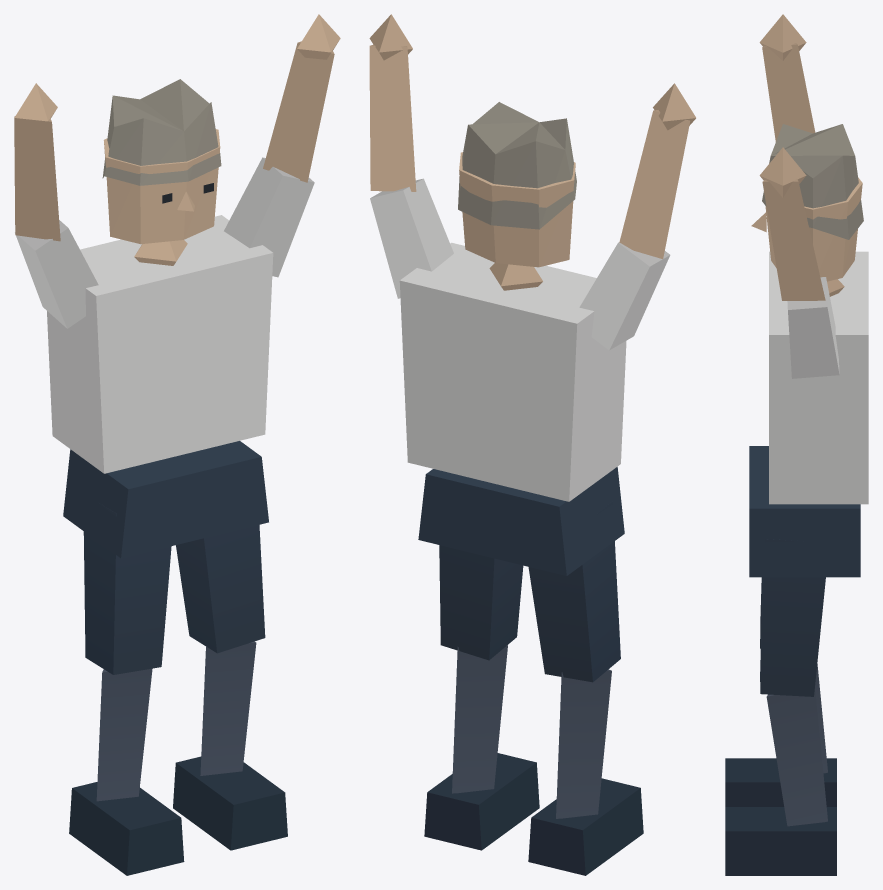
The model's file is fan-08.glb.
3 views of the same model, side by side, from view 1: azimuth 30°, elevation 25°; view 2: azimuth 150°, elevation 25°; view 3: azimuth 270°, elevation 25° (orthographic). The views are drawn at different scales.
Visible parts, largest first — view 1: fan-08; view 2: fan-08; view 3: fan-08.
Boxes of the visible parts, box(x1,y1,x2,y2) form: fan-08: box(14, 14, 340, 875); fan-08: box(369, 14, 695, 875); fan-08: box(725, 14, 868, 875).
Size of the model in its own units: 0.912 by 2.1 by 0.36.
